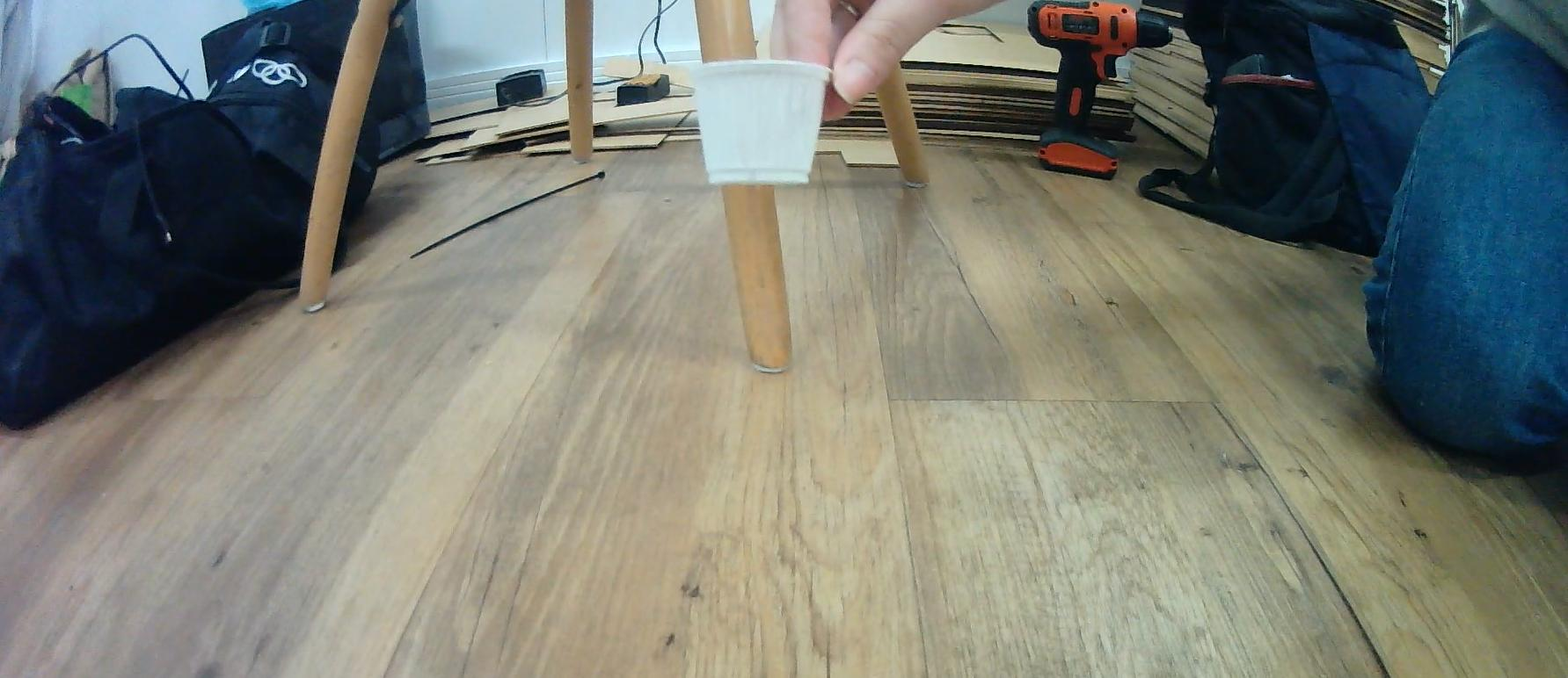planta: (688, 59, 832, 187)
